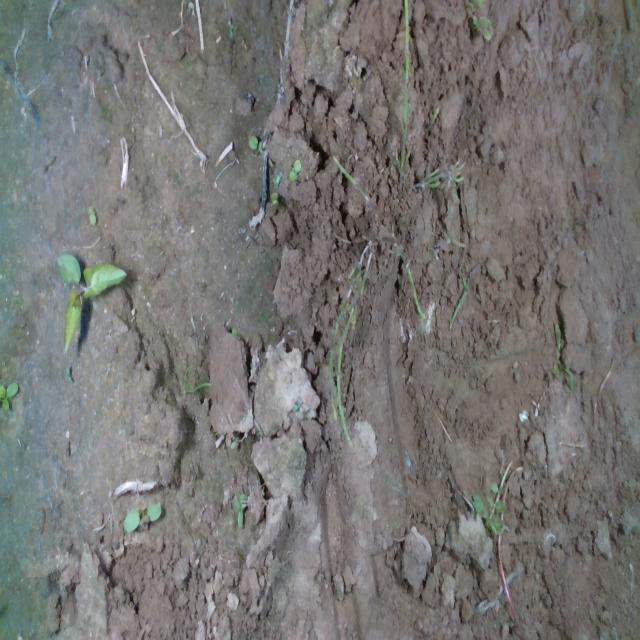weed: (122, 498, 162, 532), (248, 135, 266, 154), (288, 157, 302, 180), (88, 204, 98, 226), (269, 190, 279, 207)
